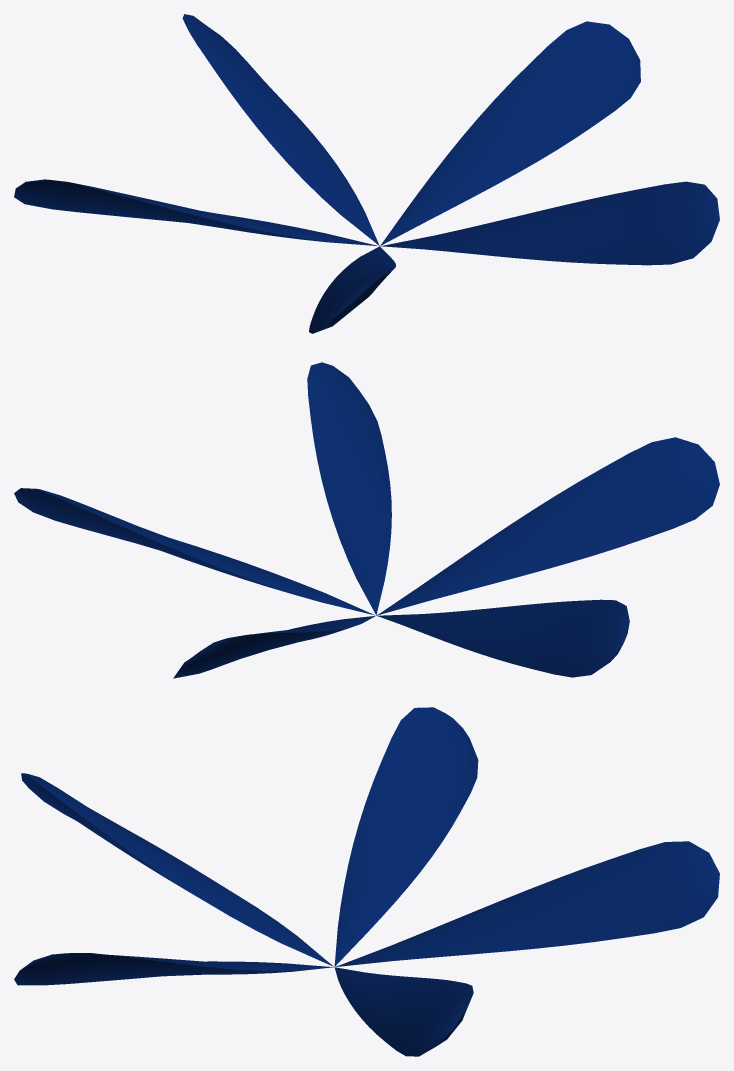
The model's file is paula_speaker_blades.fbx.
3 renders of one model, top to bottom at view 1: azimuth 30°, elevation 25°; view 2: azimuth 150°, elevation 25°; view 3: azimuth 270°, elevation 25°, orthographic. The views are drawn at different scales.
Visible parts, largest first — view 1: paula_speaker_blades; view 2: paula_speaker_blades; view 3: paula_speaker_blades.
Boxes of the visible parts, x1,y1,x2,y2 form: paula_speaker_blades: [14, 14, 719, 333]; paula_speaker_blades: [14, 362, 719, 678]; paula_speaker_blades: [14, 707, 719, 1056].
Bounding box in the file's own units: 75.7 × 12.78 × 72.54.
